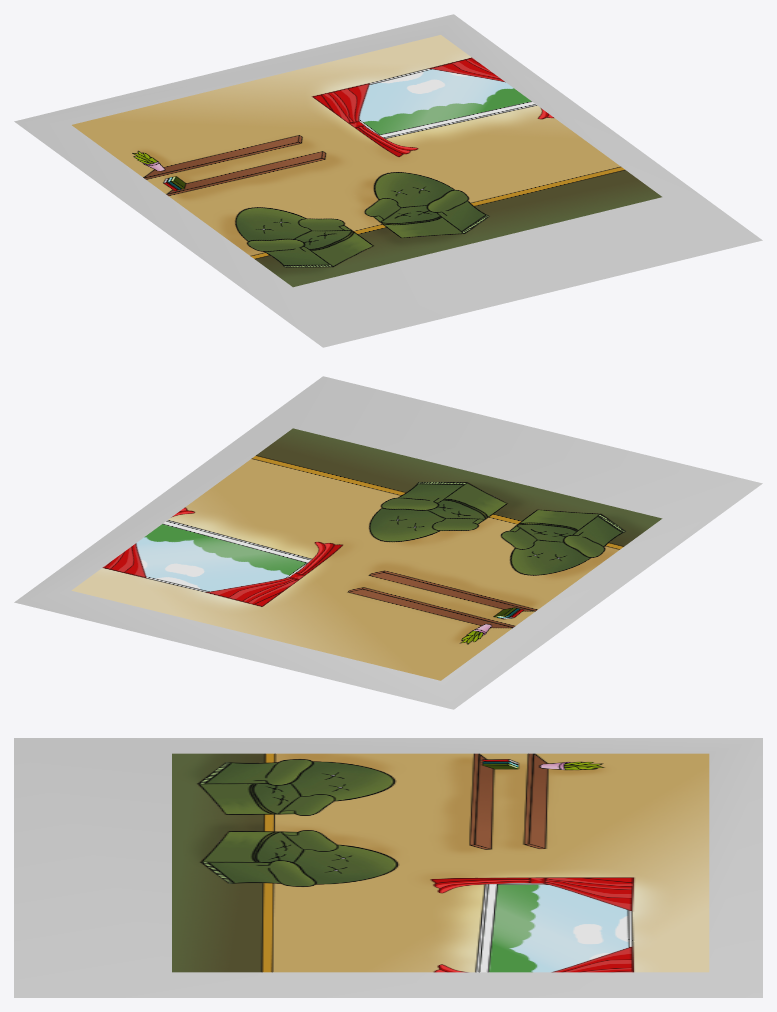
The model's file is polaroid.fbx.
The picture shows the model from 3 angles, top to bottom: view 1: azimuth 30°, elevation 25°; view 2: azimuth 150°, elevation 25°; view 3: azimuth 270°, elevation 25°; orthographic projection. The views are drawn at different scales.
Parts seen in each view (by area): view 1: pPlane1; view 2: pPlane1; view 3: pPlane1.
Boxes of the visible parts, x1,y1,x2,y2 form: pPlane1: (14, 14, 762, 347); pPlane1: (14, 376, 762, 709); pPlane1: (14, 738, 762, 997).
Size of the model in its own units: 8.18 by 0.0741 by 9.96.
Materials: 2 (1 with a texture image).
